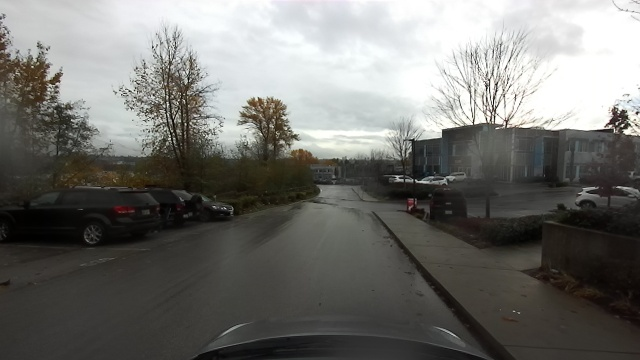car: (4, 184, 162, 247), (569, 184, 638, 209), (162, 189, 203, 225), (204, 195, 238, 226), (416, 173, 449, 189), (387, 173, 416, 189), (447, 170, 467, 184)
